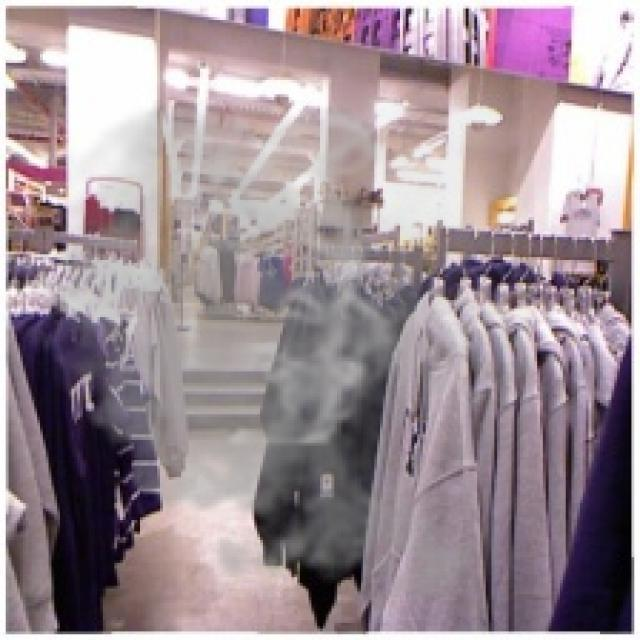Smoke: (14, 95, 534, 614)
